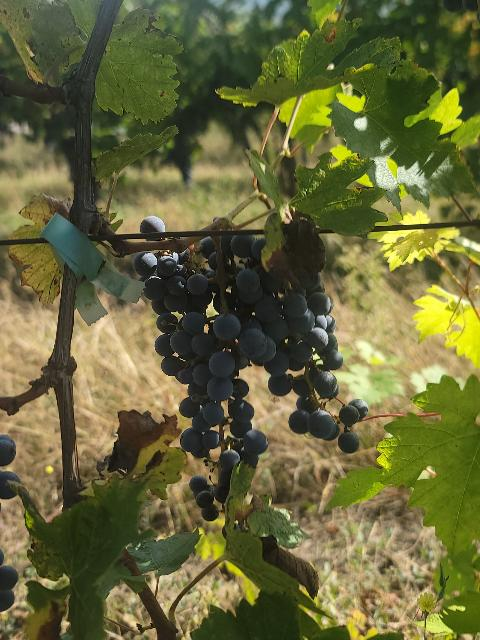grapes: (230, 214, 342, 440), (155, 311, 268, 520), (132, 238, 219, 315)
